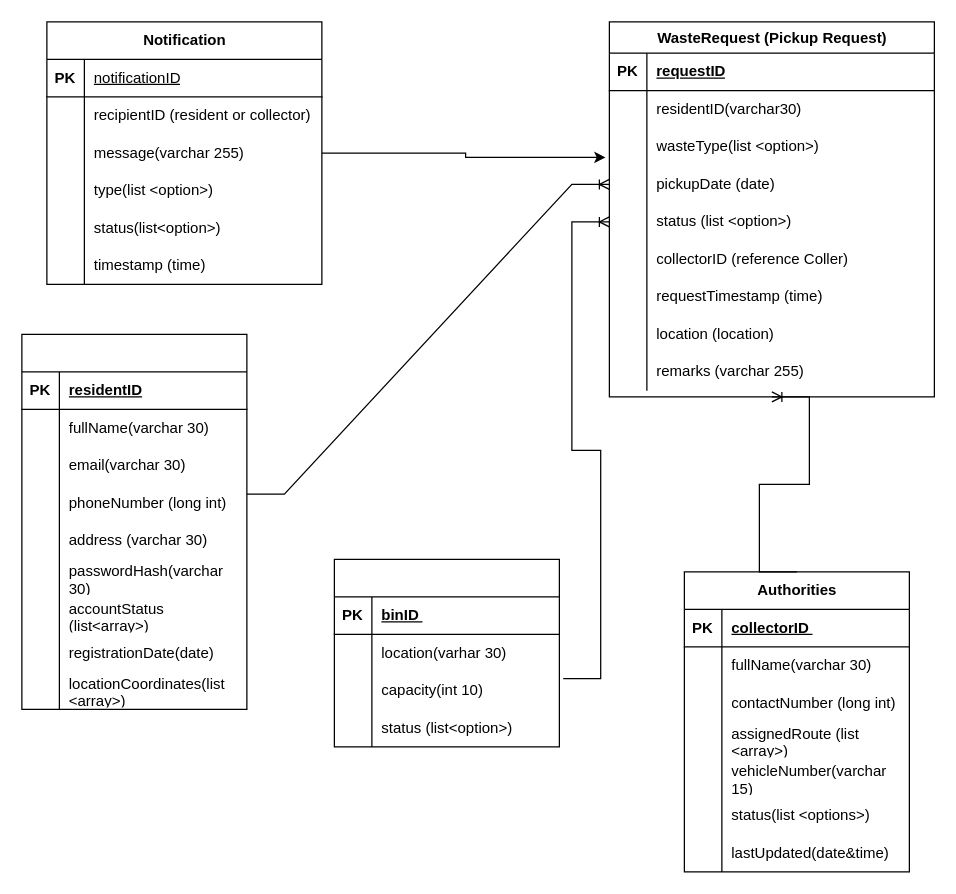
Image size: 956x894. Some labels were removed from this diagram. Here are the shapes that lost their labels. From the top down, the box of each, then its label:
(21, 333, 247, 709): User
(333, 558, 559, 747): Garbage Can
